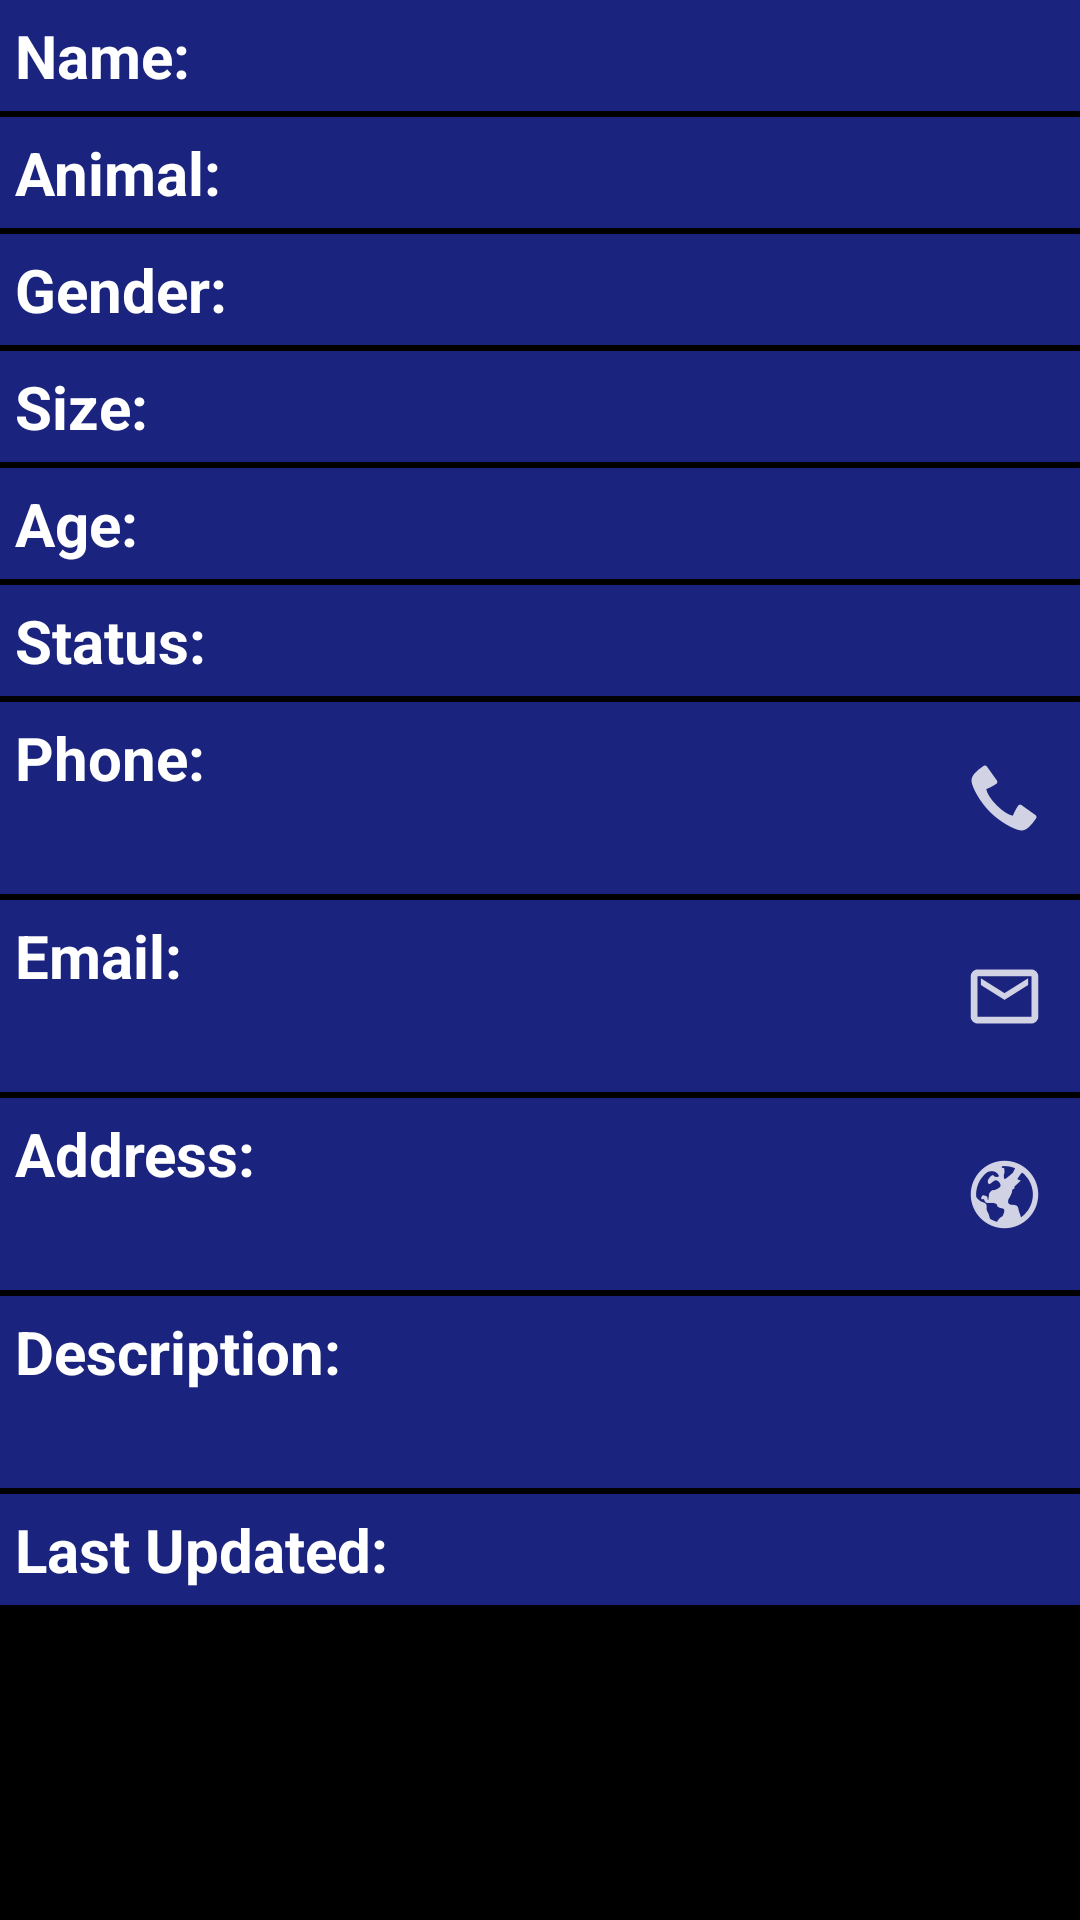

Named icons in this screenshot (1080*1920) and their bounding boxes, {"left": x1, "top": y1, "right": x2, "bottom": y2}:
email: {"left": 970, "top": 969, "right": 1039, "bottom": 1024}
map: {"left": 970, "top": 1160, "right": 1039, "bottom": 1229}
phone: {"left": 971, "top": 765, "right": 1037, "bottom": 831}
